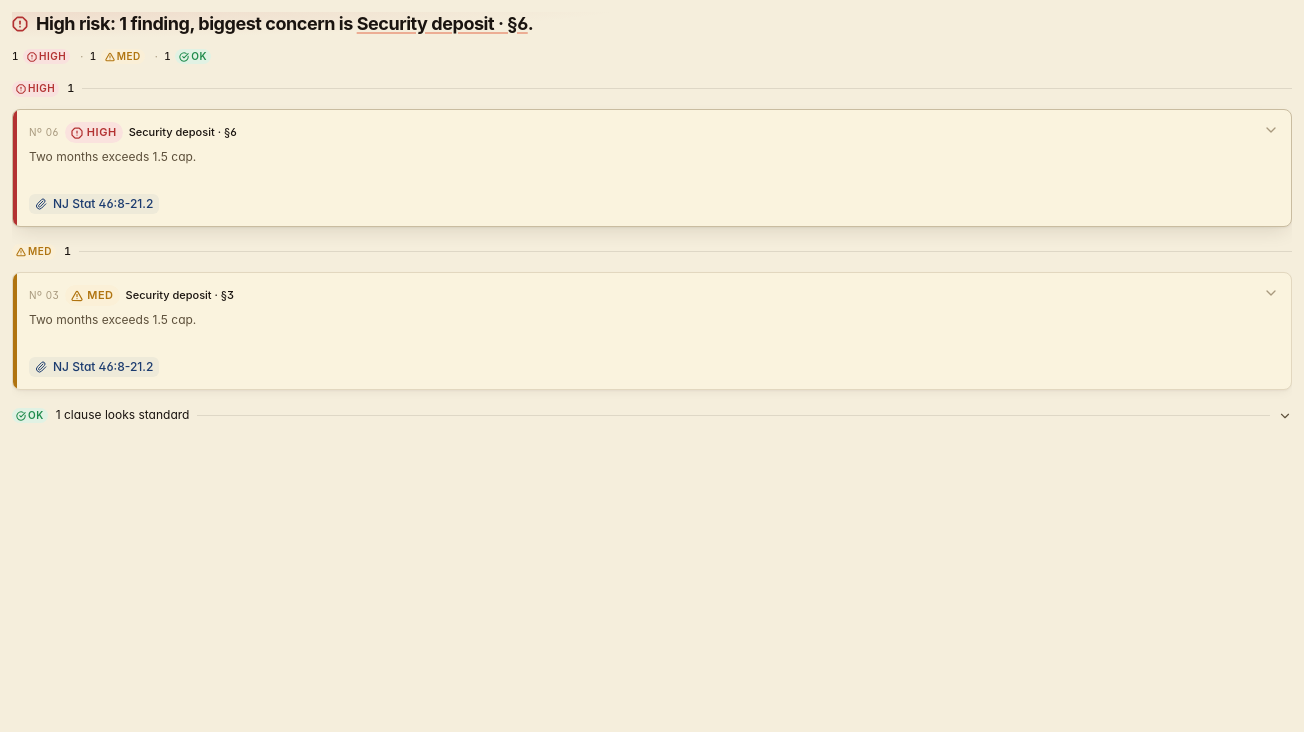
Test: RedFlagReport › groups cards high → medium → ok, with OK rolled up until expanded
Expected: the number of elements with test id "red-flag-card" is 2, [12,109,1292,227]; [12,272,1292,390]
// Expanding reveals the OK card last (preserving severity order).
Click the button with test id "red-flag-ok-rollup".
click(30, 416)  # box [12,402,1292,425]
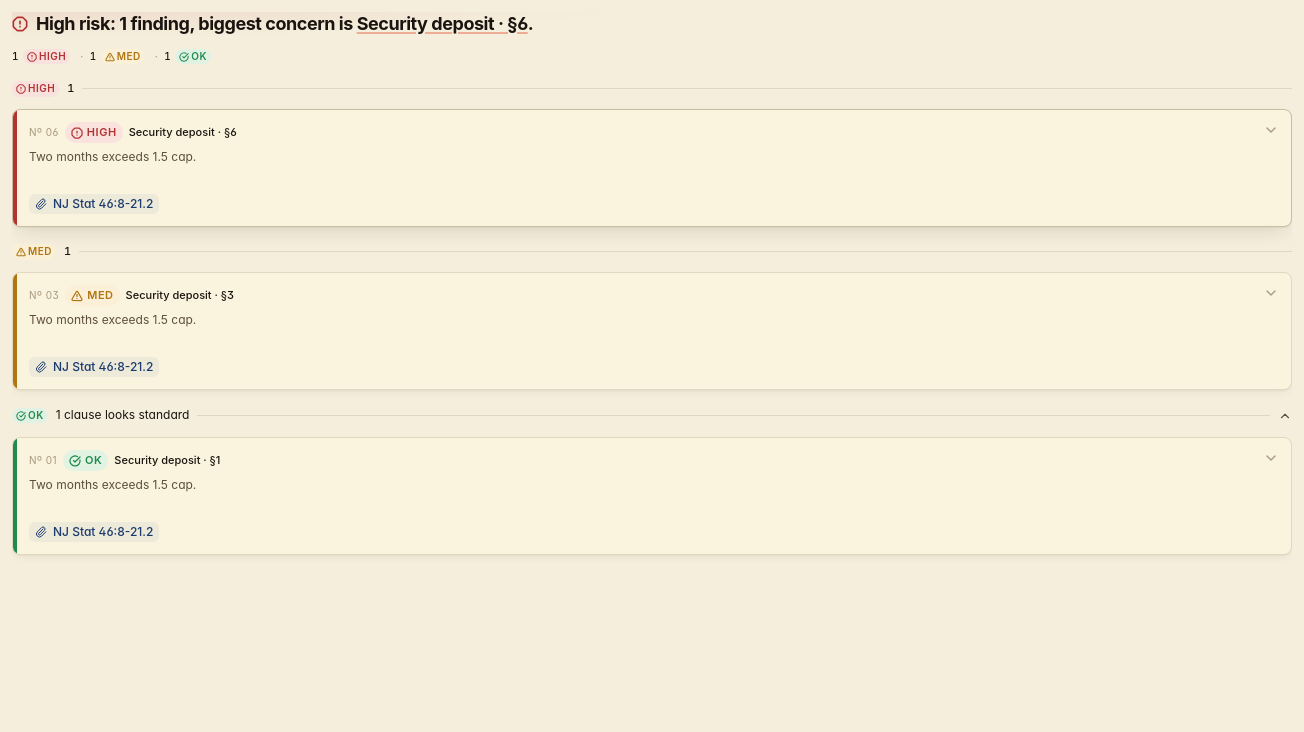
Now the button with test id "red-flag-ok-rollup" is expanded, box [12,402,1292,425]
Now the number of elements with test id "red-flag-card" is 3, box [12,109,1292,227]; [12,272,1292,390]; [12,437,1292,555]
